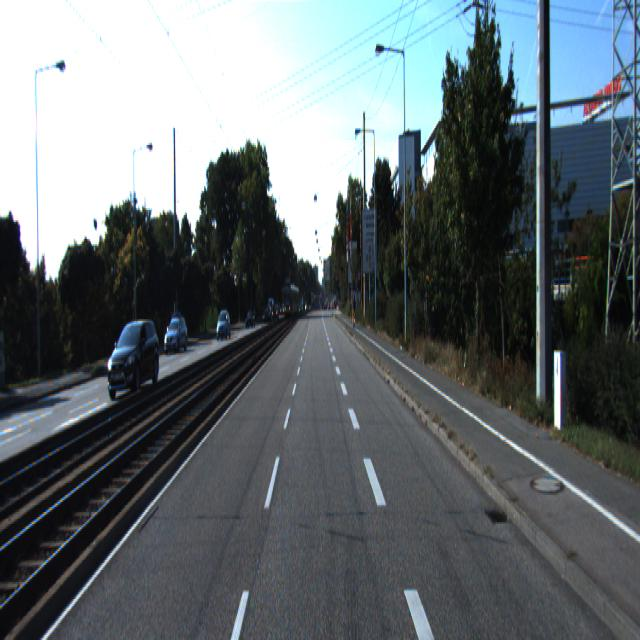Car: (106, 317, 161, 403), (162, 314, 188, 357)
